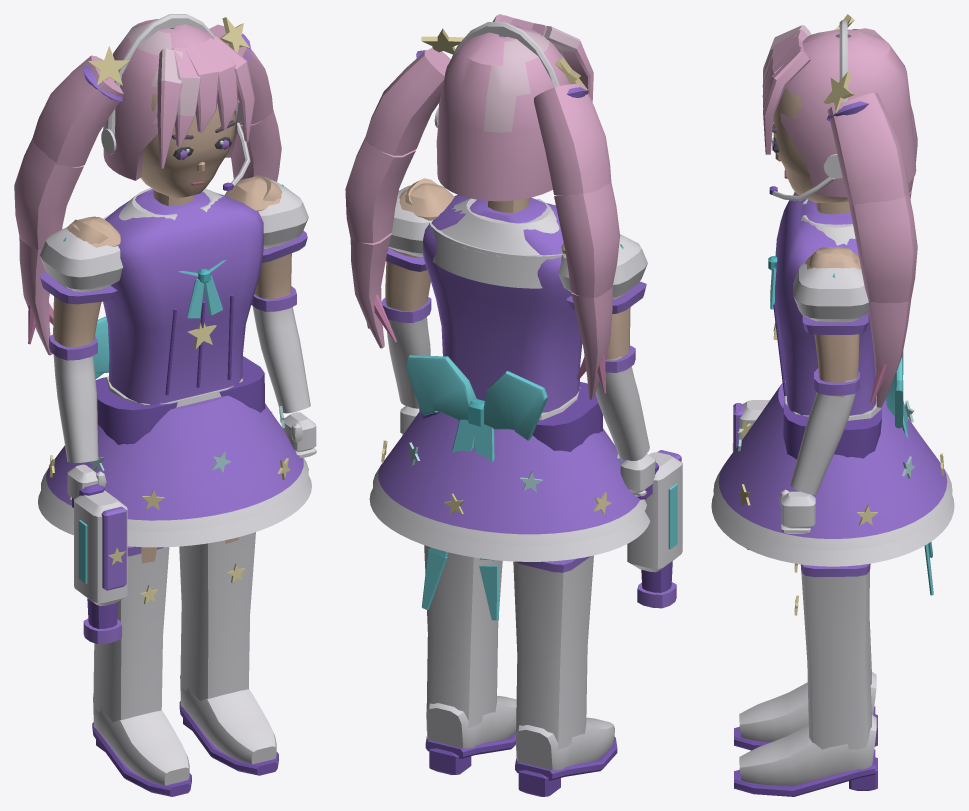
The model's file is jo_idole.glb.
3 views of the same model, side by side, from view 1: azimuth 30°, elevation 25°; view 2: azimuth 150°, elevation 25°; view 3: azimuth 270°, elevation 25° (orthographic). The views are drawn at different scales.
Parts seen in each view (by area): view 1: torso, hair, jambe_l, jambe_r, arm_r, arm_l, gun, head, epaule_r, couette_r_f1, leg_r, epaule_l (+9 smaller); view 2: torso, hair, jambe_r, jambe_l, col, dos, arm_l, arm_r, couette_r_f1, gun, couette_l_f1, couette_l_f2 (+10 smaller); view 3: torso, hair, jambe_l, arm_l, couette_l_f1, epaule_l, jambe_r, couette_l_f2, head, leg_l, col, jupe_glow (+5 smaller).
Boxes of the visible parts, x1=… form: torso: x1=38, y1=189, x2=311, y2=547; hair: x1=33, y1=19, x2=273, y2=180; jambe_l: x1=179, y1=532, x2=278, y2=775; jambe_r: x1=92, y1=546, x2=191, y2=796; arm_r: x1=49, y1=216, x2=120, y2=502; arm_l: x1=224, y1=175, x2=316, y2=457; gun: x1=72, y1=484, x2=127, y2=644; head: x1=141, y1=93, x2=236, y2=206; epaule_r: x1=39, y1=227, x2=123, y2=304; couette_r_f1: x1=14, y1=137, x2=83, y2=249; leg_r: x1=95, y1=377, x2=177, y2=563; epaule_l: x1=258, y1=179, x2=308, y2=262; torso: x1=369, y1=195, x2=650, y2=561; hair: x1=364, y1=14, x2=611, y2=201; jambe_r: x1=513, y1=555, x2=617, y2=796; jambe_l: x1=424, y1=545, x2=516, y2=774; col: x1=429, y1=198, x2=561, y2=288; dos: x1=406, y1=355, x2=547, y2=440; arm_l: x1=381, y1=178, x2=454, y2=435; arm_r: x1=561, y1=234, x2=655, y2=496; couette_r_f1: x1=554, y1=182, x2=619, y2=297; gun: x1=627, y1=450, x2=682, y2=608; couette_l_f1: x1=345, y1=137, x2=415, y2=243; couette_l_f2: x1=350, y1=233, x2=396, y2=348; torso: x1=711, y1=193, x2=954, y2=566; hair: x1=762, y1=25, x2=916, y2=206; jambe_l: x1=734, y1=563, x2=877, y2=796; arm_l: x1=779, y1=247, x2=861, y2=533; couette_l_f1: x1=849, y1=193, x2=917, y2=302; epaule_l: x1=793, y1=263, x2=868, y2=334; jambe_r: x1=734, y1=621, x2=877, y2=750; couette_l_f2: x1=868, y1=298, x2=911, y2=407; head: x1=771, y1=88, x2=850, y2=214; leg_l: x1=783, y1=401, x2=881, y2=459; col: x1=768, y1=199, x2=855, y2=309; jupe_glow: x1=737, y1=400, x2=944, y2=525.
Bounding box in the file's own units: 0.4446 × 1.23 × 0.368.
